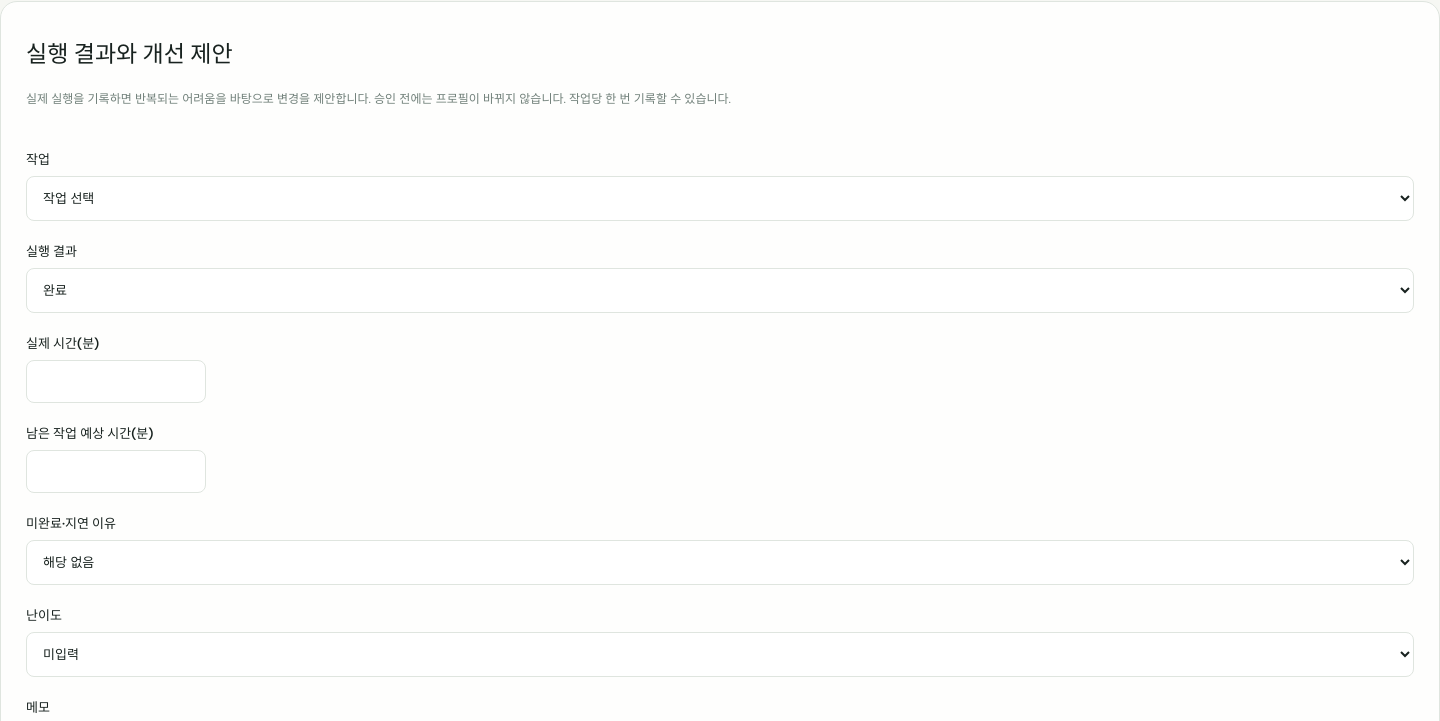
getting a failed task back into the week › asks the planner for a way back only with consent, and lets the user pick when it cannot
Select "문제 풀기 · 예정 30분" in the dropdown labelled "작업" at (720, 198), box left=26, top=176, right=1414, bottom=221
Select "미시작" in the dropdown labelled "실행 결과" at (720, 290), box left=26, top=268, right=1414, bottom=313
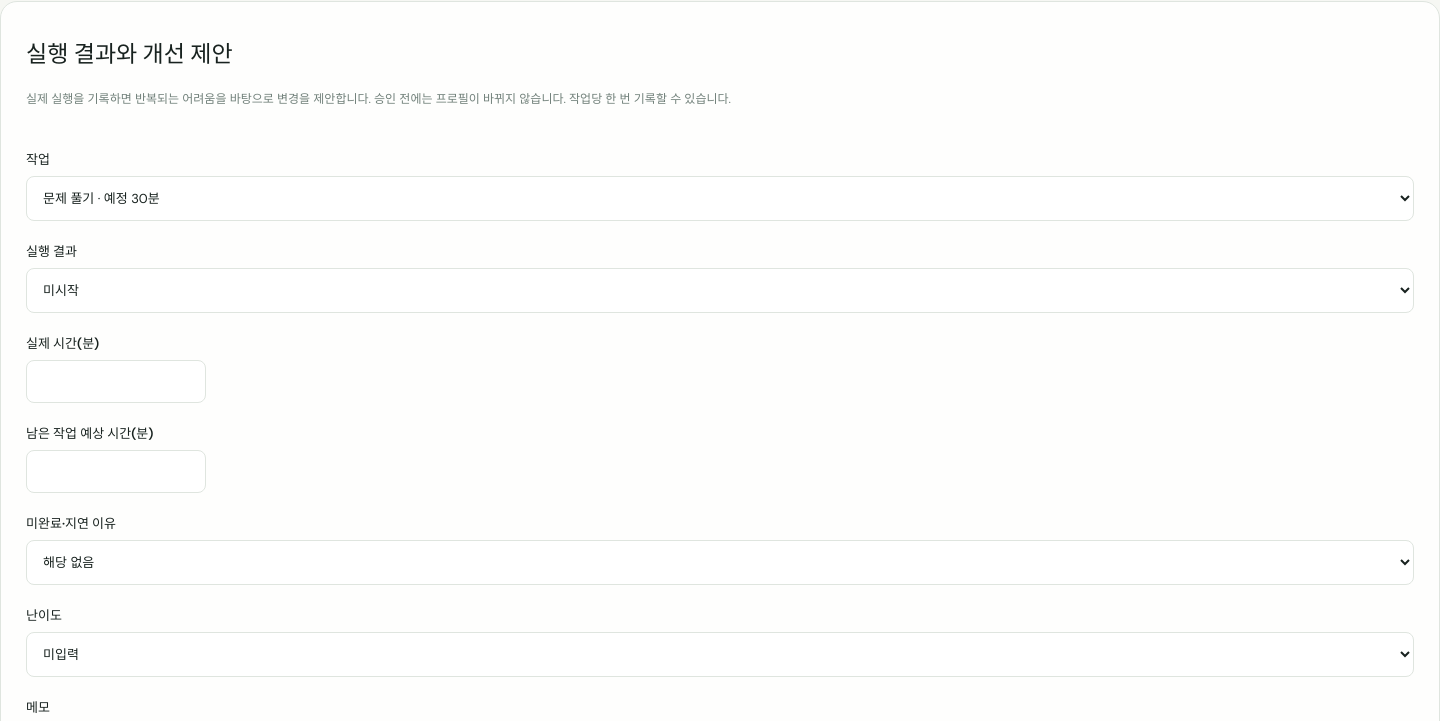
Type "0" into the number field labelled "실제 시간(분)" at (116, 381), box left=26, top=360, right=206, bottom=403
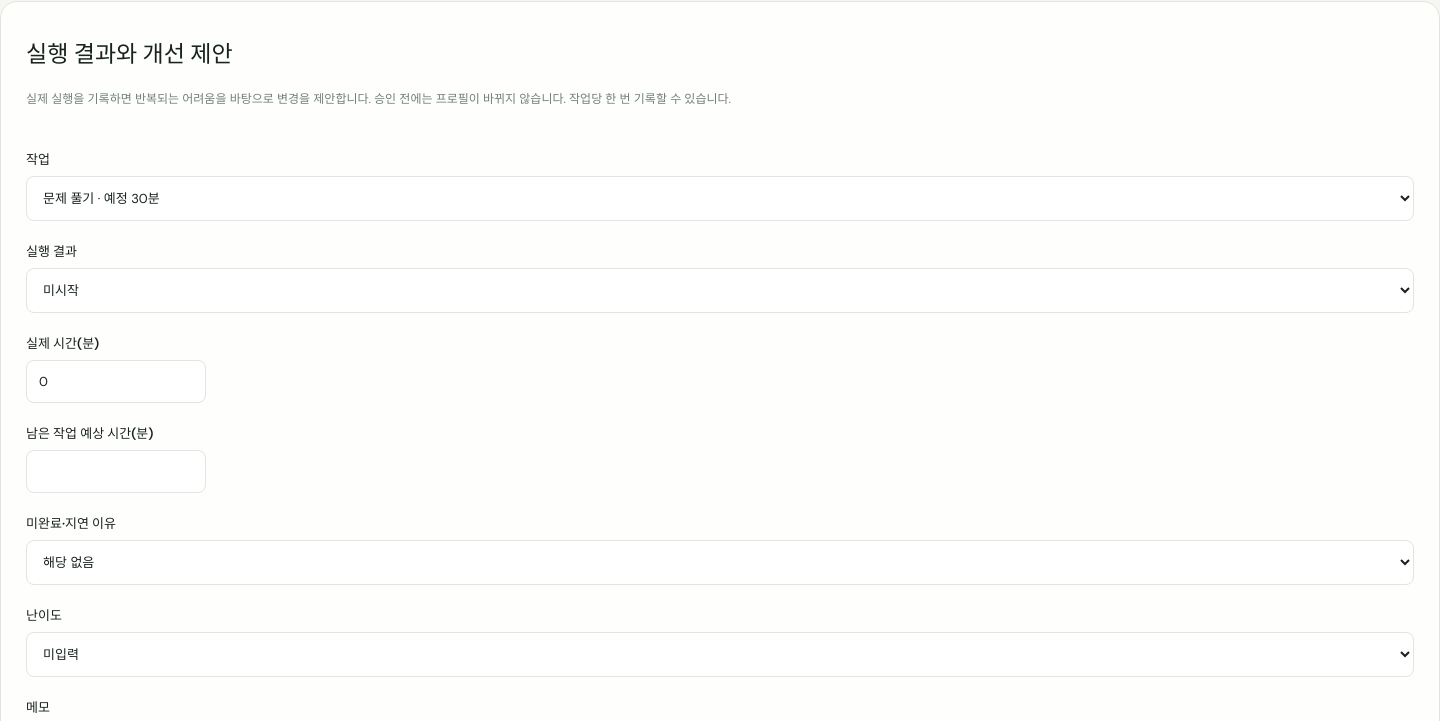
Select "기타" in the dropdown labelled "미완료·지연 이유" at (720, 562), box left=26, top=540, right=1414, bottom=585
(page scrolled)
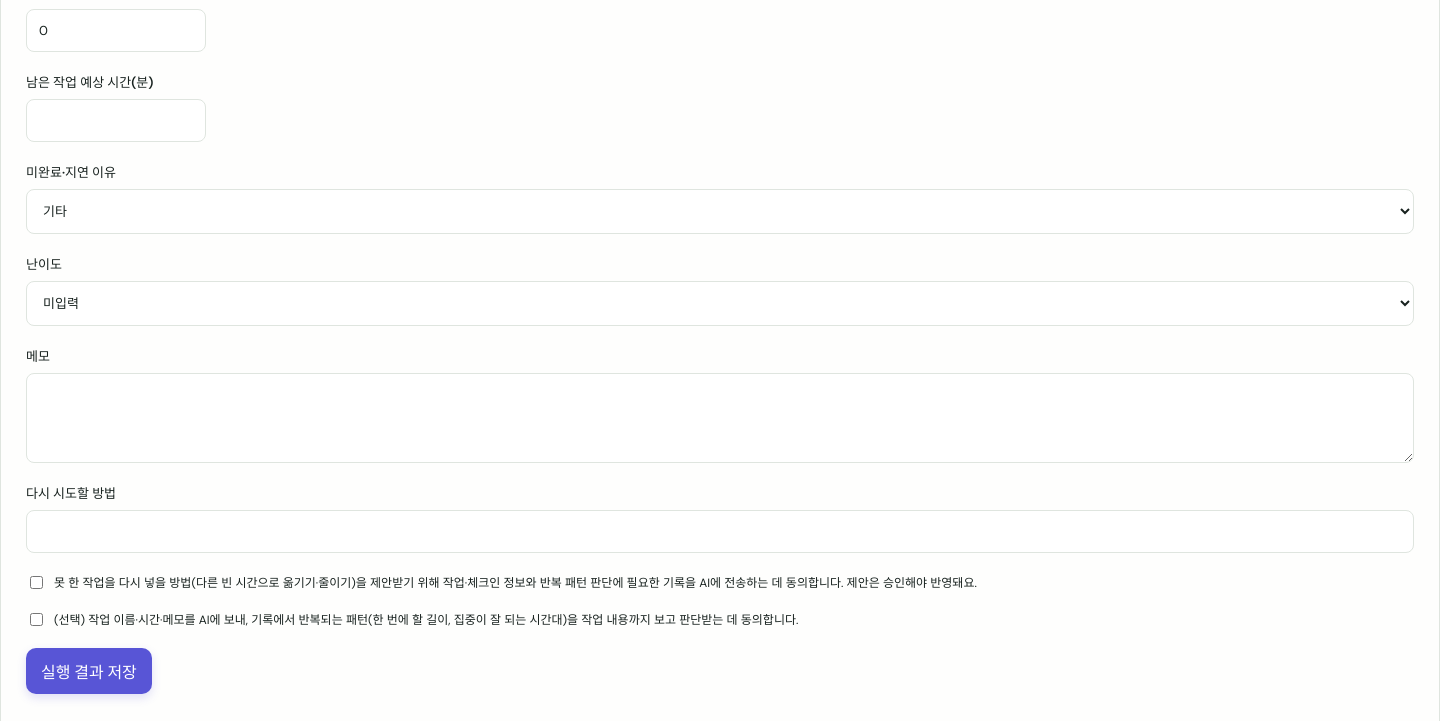
Click the checkbox labelled "다시 넣을 방법(다른 빈 시간으로 옮기기·줄이기)" at (36, 582), box left=30, top=576, right=43, bottom=589
(page scrolled)
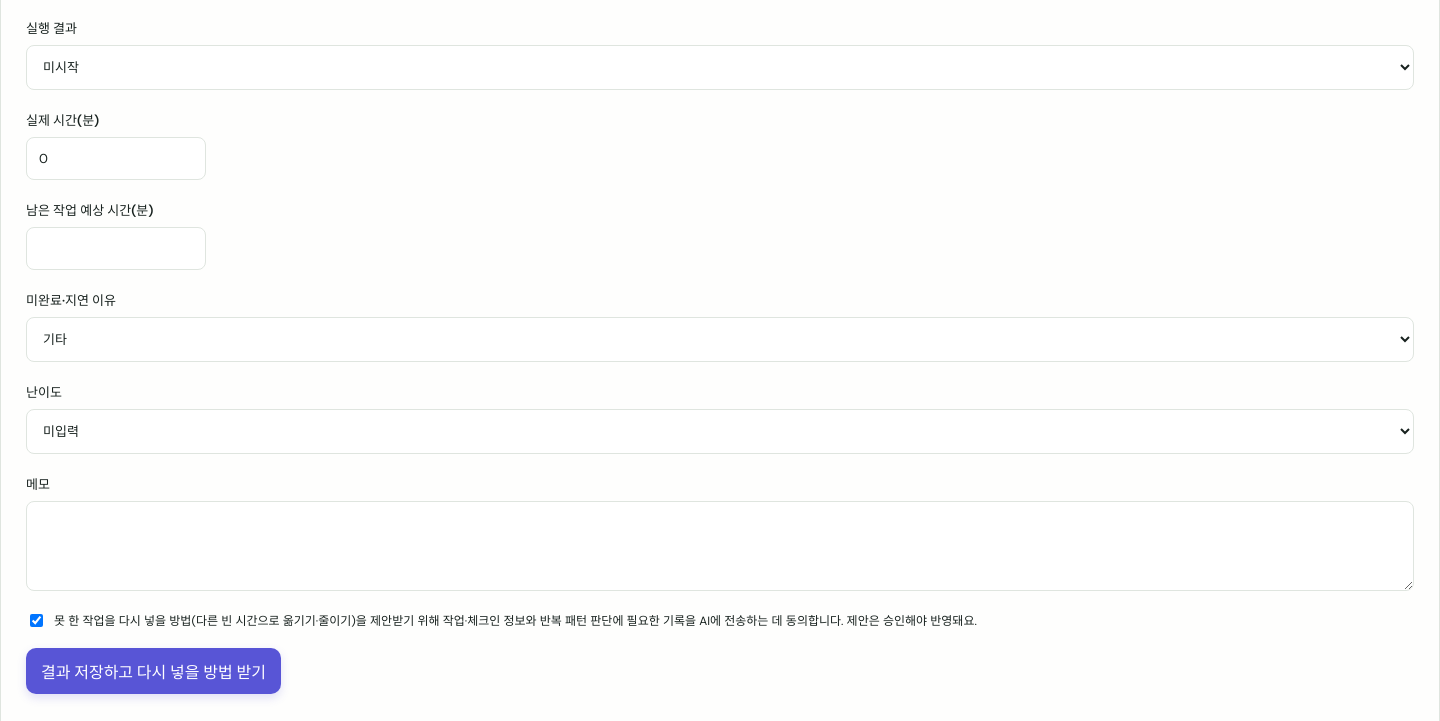
Click the button "결과 저장하고 다시 넣을 방법 받기" at (153, 671), box left=26, top=648, right=281, bottom=694
(page scrolled)
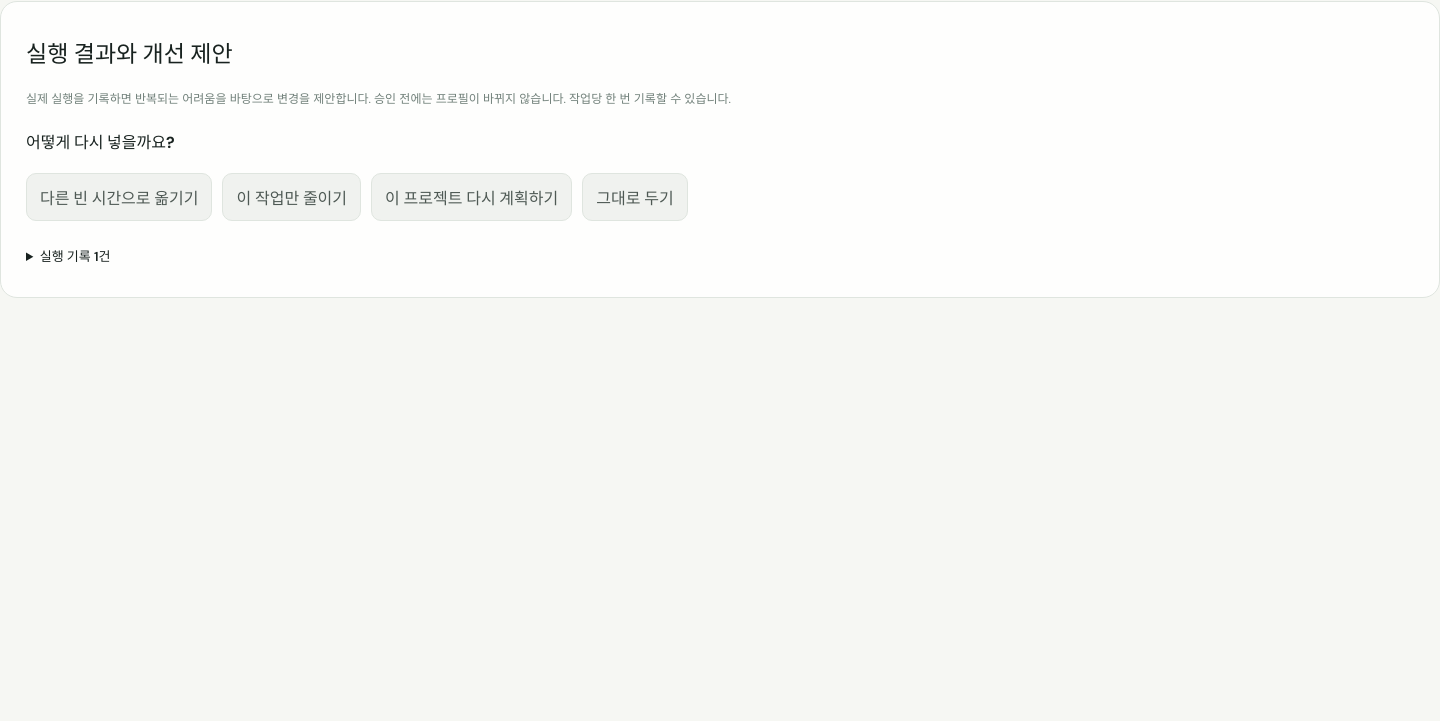
Click the button "다른 빈 시간으로 옮기기" at (119, 197), box left=26, top=173, right=212, bottom=221
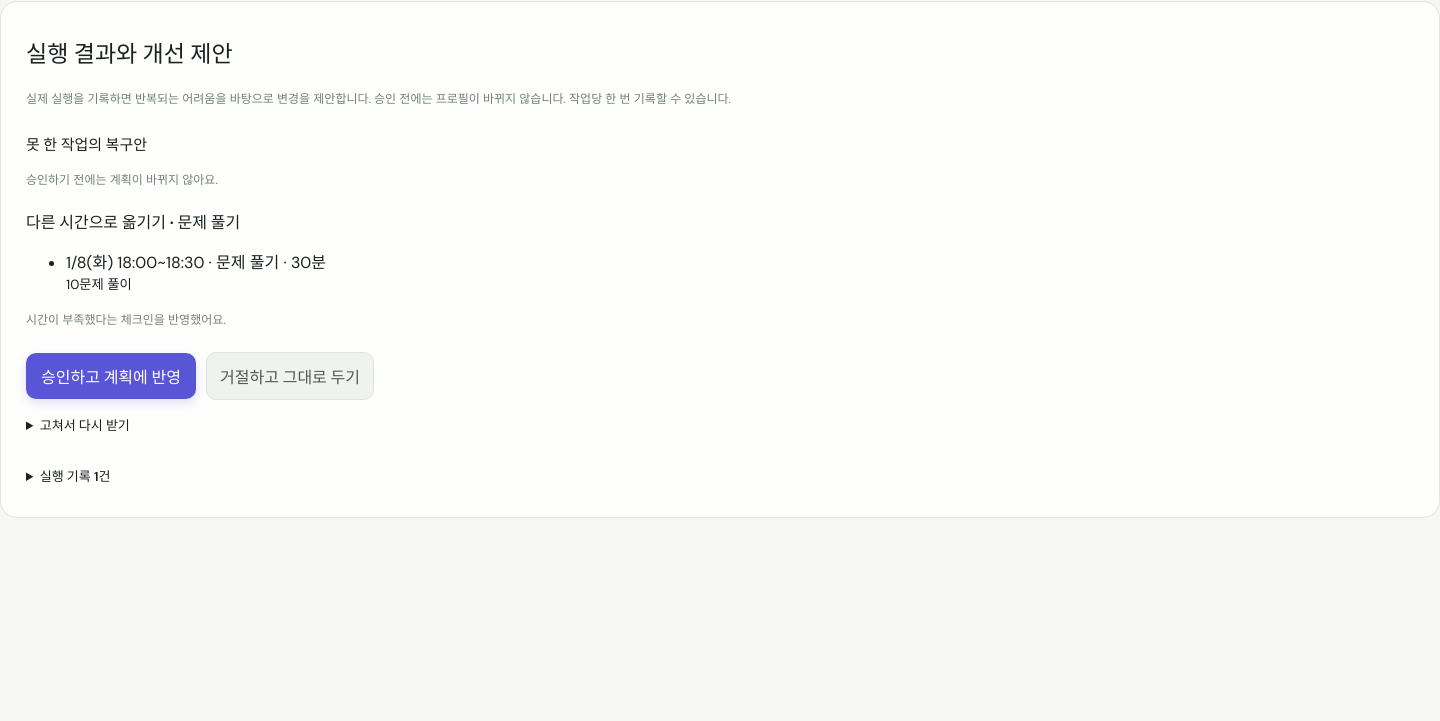
Result: the text "다른 시간으로 옮기기 · 문제 풀기" is shown at left=26, top=212, right=240, bottom=233
